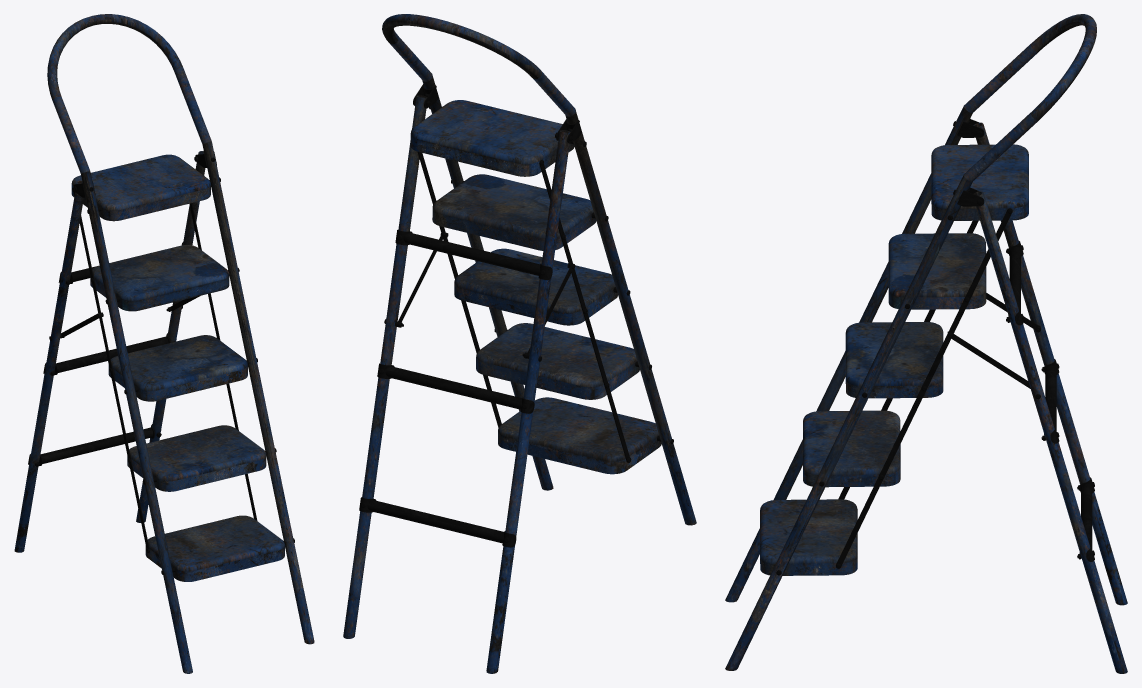
Rendered from Ladder.fbx.
3 views of the same model, side by side, from view 1: azimuth 30°, elevation 25°; view 2: azimuth 150°, elevation 25°; view 3: azimuth 270°, elevation 25° (orthographic). The views are drawn at different scales.
Visible parts, largest first — view 1: Steel1, Redondeo1; view 2: Steel1, Redondeo1; view 3: Steel1, Redondeo1.
Boxes of the visible parts, x1=… form: Steel1: x1=14, y1=14, x2=314, y2=673; Redondeo1: x1=35, y1=156, x2=294, y2=574; Steel1: x1=343, y1=14, x2=696, y2=673; Redondeo1: x1=361, y1=85, x2=673, y2=542; Steel1: x1=725, y1=14, x2=1127, y2=673; Redondeo1: x1=776, y1=121, x2=1094, y2=575.
Size of the model in its own units: 13.04 by 49.16 by 29.29.
Materials: 2 (1 with a texture image).
